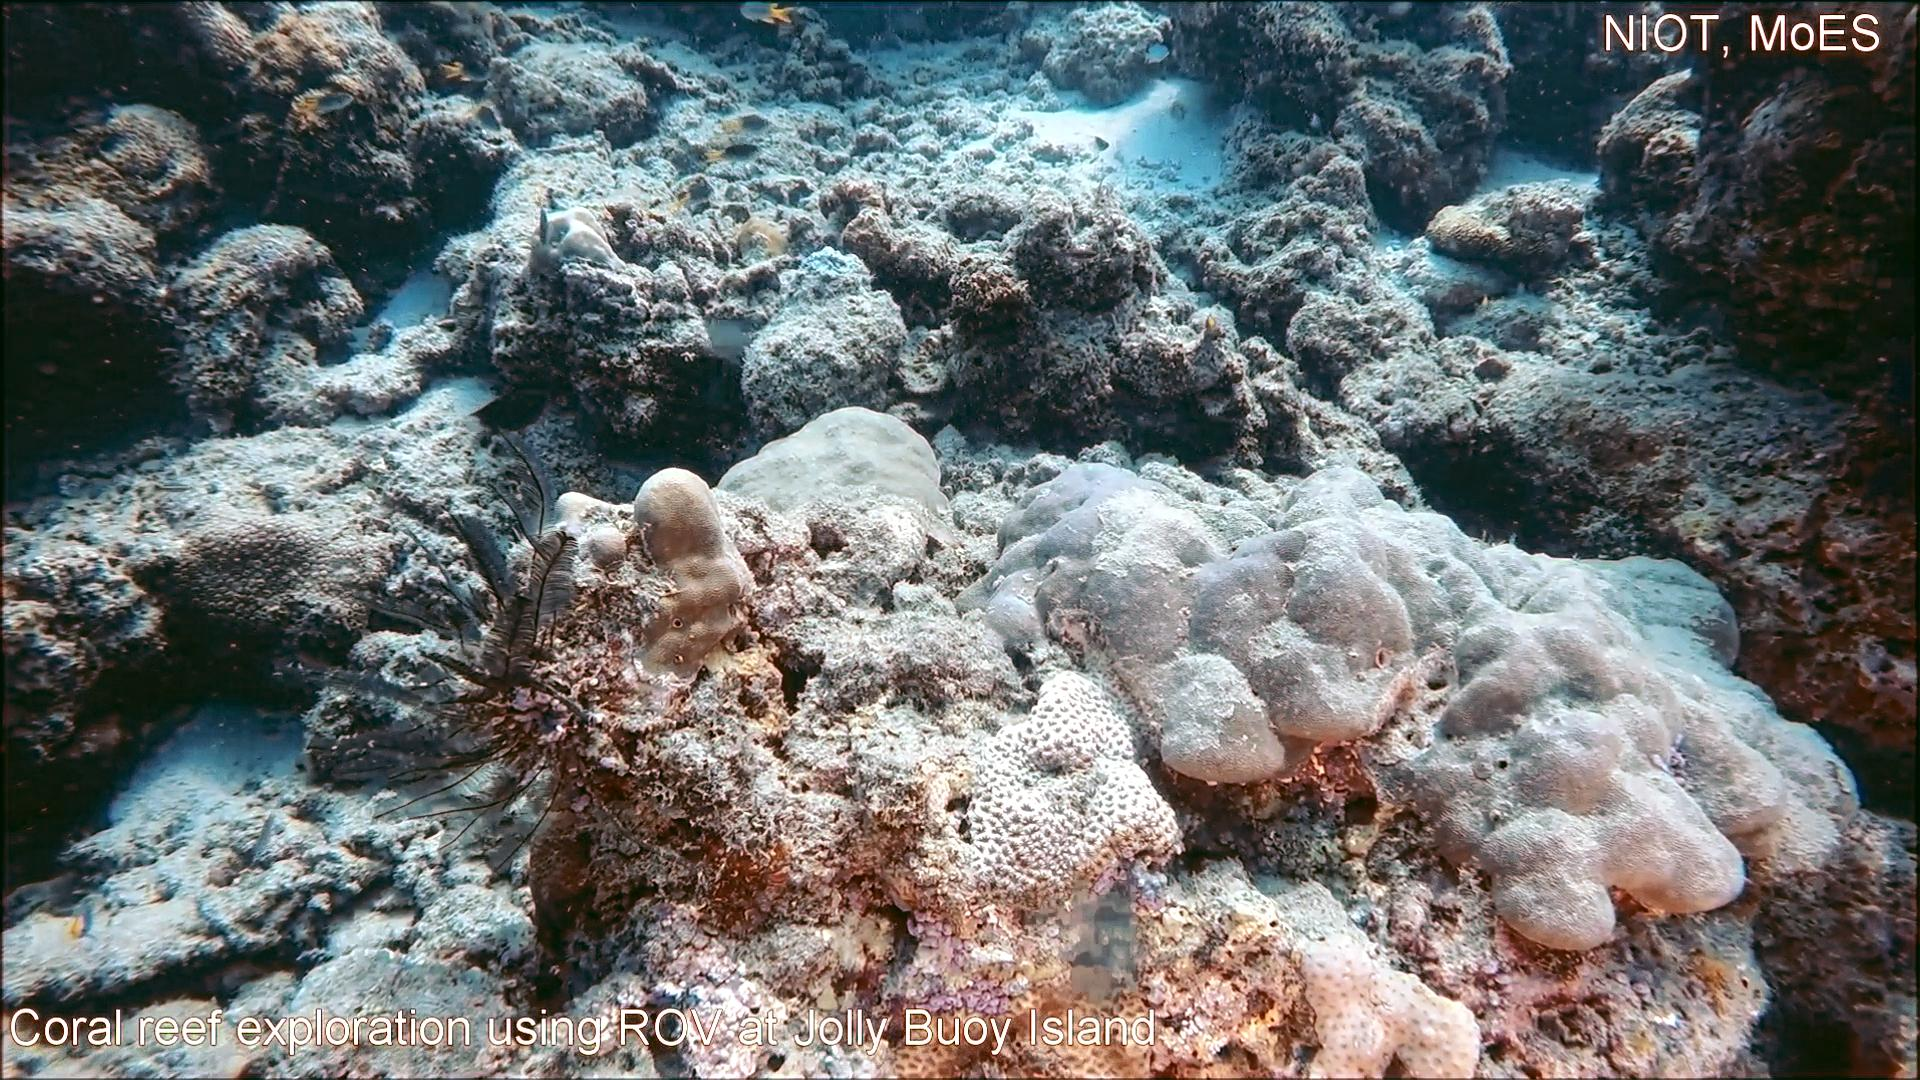Feather star-Crinoid star: (274, 418, 616, 899)
Goniastrea-Goniastrea pectinata: (960, 661, 1192, 924)
Porites-Porites pukoensis: (1282, 456, 1867, 961)
Turbinaria-Turbinaria stellulata: (160, 506, 396, 659)
